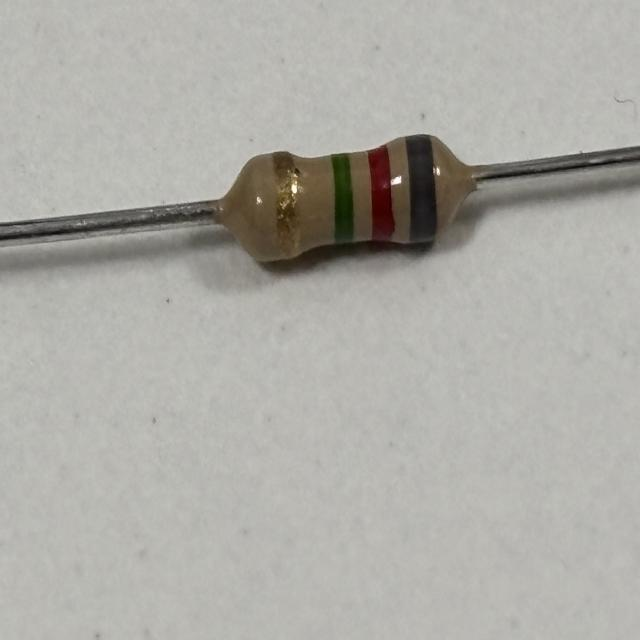resistor: (239, 132, 450, 268)
